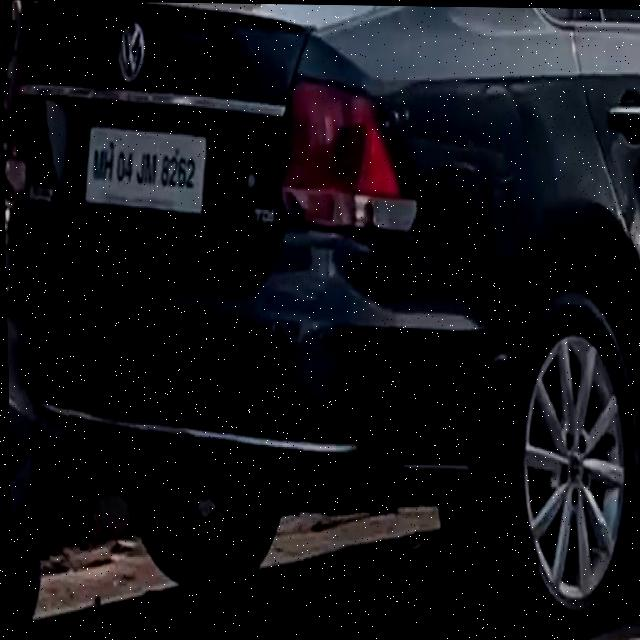plate: (81, 122, 208, 215)
